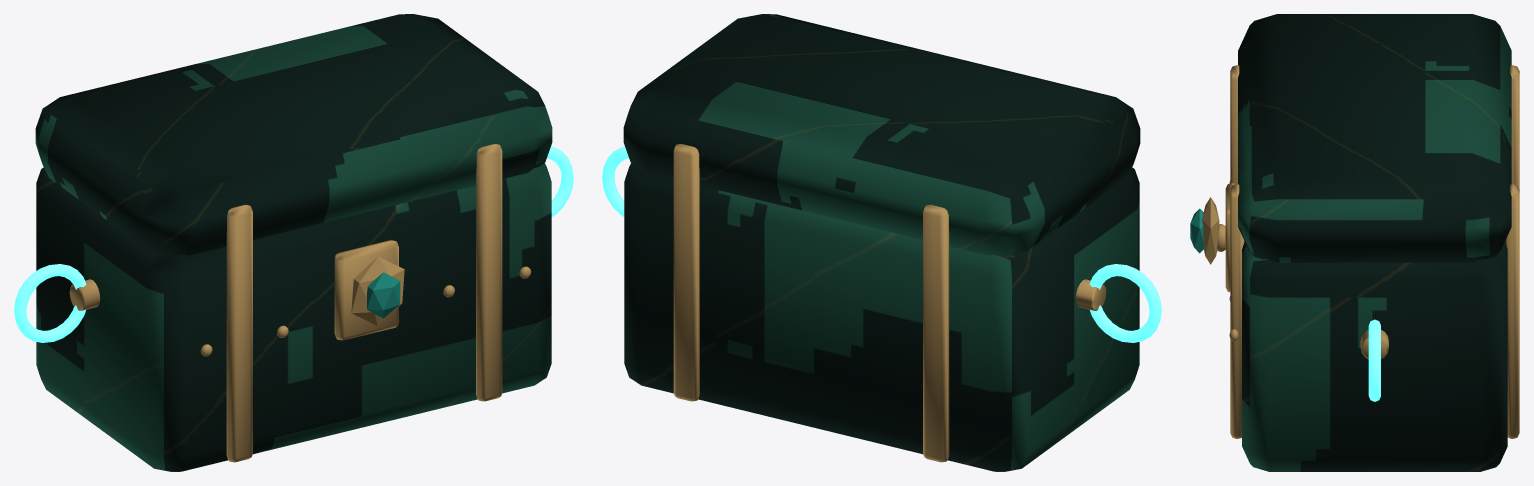
Rendered from relic_chest_pattern_jade.fbx.
3 views of the same model, side by side, from view 1: azimuth 30°, elevation 25°; view 2: azimuth 150°, elevation 25°; view 3: azimuth 270°, elevation 25° (orthographic). The views are drawn at different scales.
Parts seen in each view (by area): view 1: Reviewed_relic_chest_Body.005, TH10_Chest_Handle.016, TH10_Chest_Handle.017; view 2: Reviewed_relic_chest_Body.005, TH10_Chest_Handle.016, TH10_Chest_Handle.017; view 3: Reviewed_relic_chest_Body.005, TH10_Chest_Handle.017.
Part boxes in pixels (<box>): Reviewed_relic_chest_Body.005: <box>35,14,552,471</box>; TH10_Chest_Handle.016: <box>14,264,86,342</box>; TH10_Chest_Handle.017: <box>547,146,573,216</box>; Reviewed_relic_chest_Body.005: <box>623,14,1140,471</box>; TH10_Chest_Handle.016: <box>1089,264,1161,342</box>; TH10_Chest_Handle.017: <box>602,146,628,216</box>; Reviewed_relic_chest_Body.005: <box>1190,14,1519,471</box>; TH10_Chest_Handle.017: <box>1368,319,1380,401</box>.
Bounding box in the file's own units: 0.806 × 0.41 × 0.4209.
4 materials, 1 textured.
